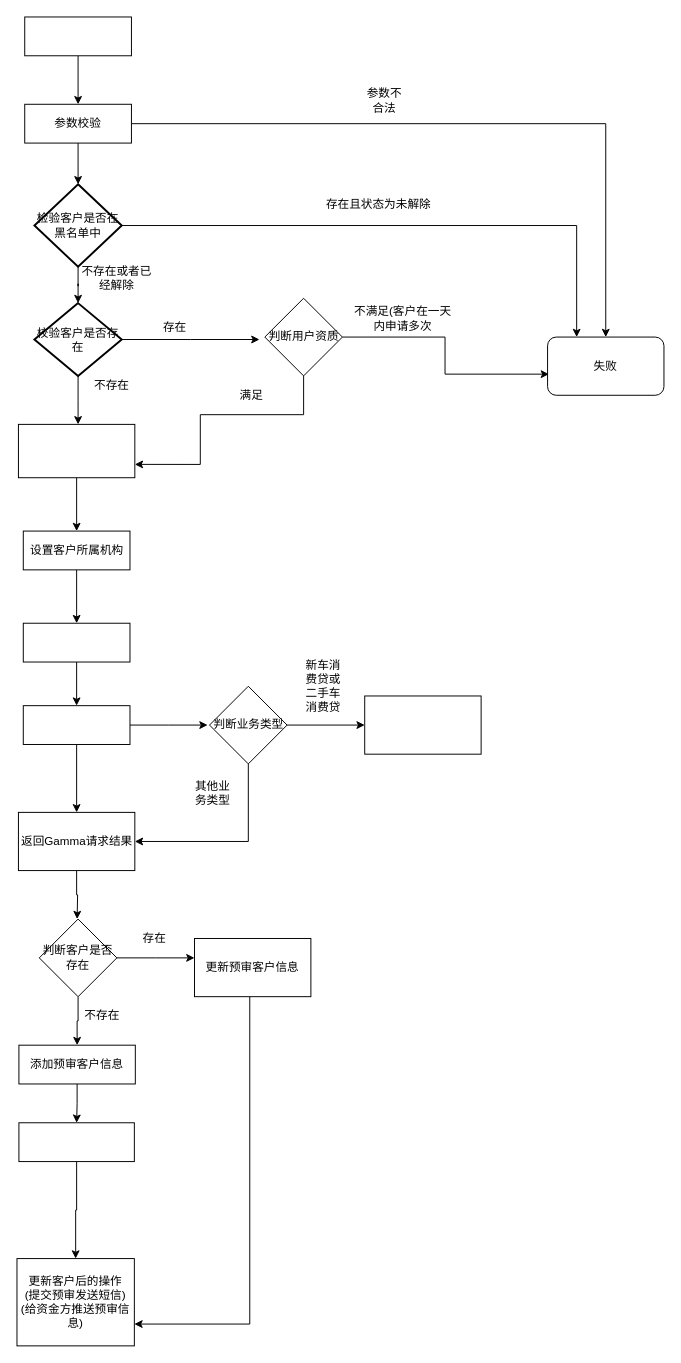
Some shapes in this 681 by 1363 pixel diagram are drawn without their labels. Here are the shapes that lost their labels. From the top down, the box of each, then its label:
(24, 16, 131, 56): 发起预审
(17, 423, 135, 478): 用户检查完毕
(22, 622, 130, 662): 请求Gamma接口
(22, 705, 130, 744): 解析Gamma返回结果
(364, 695, 481, 754): 发送快定价和Gamma订单编号
(18, 1122, 134, 1162): 保存联系人信息
